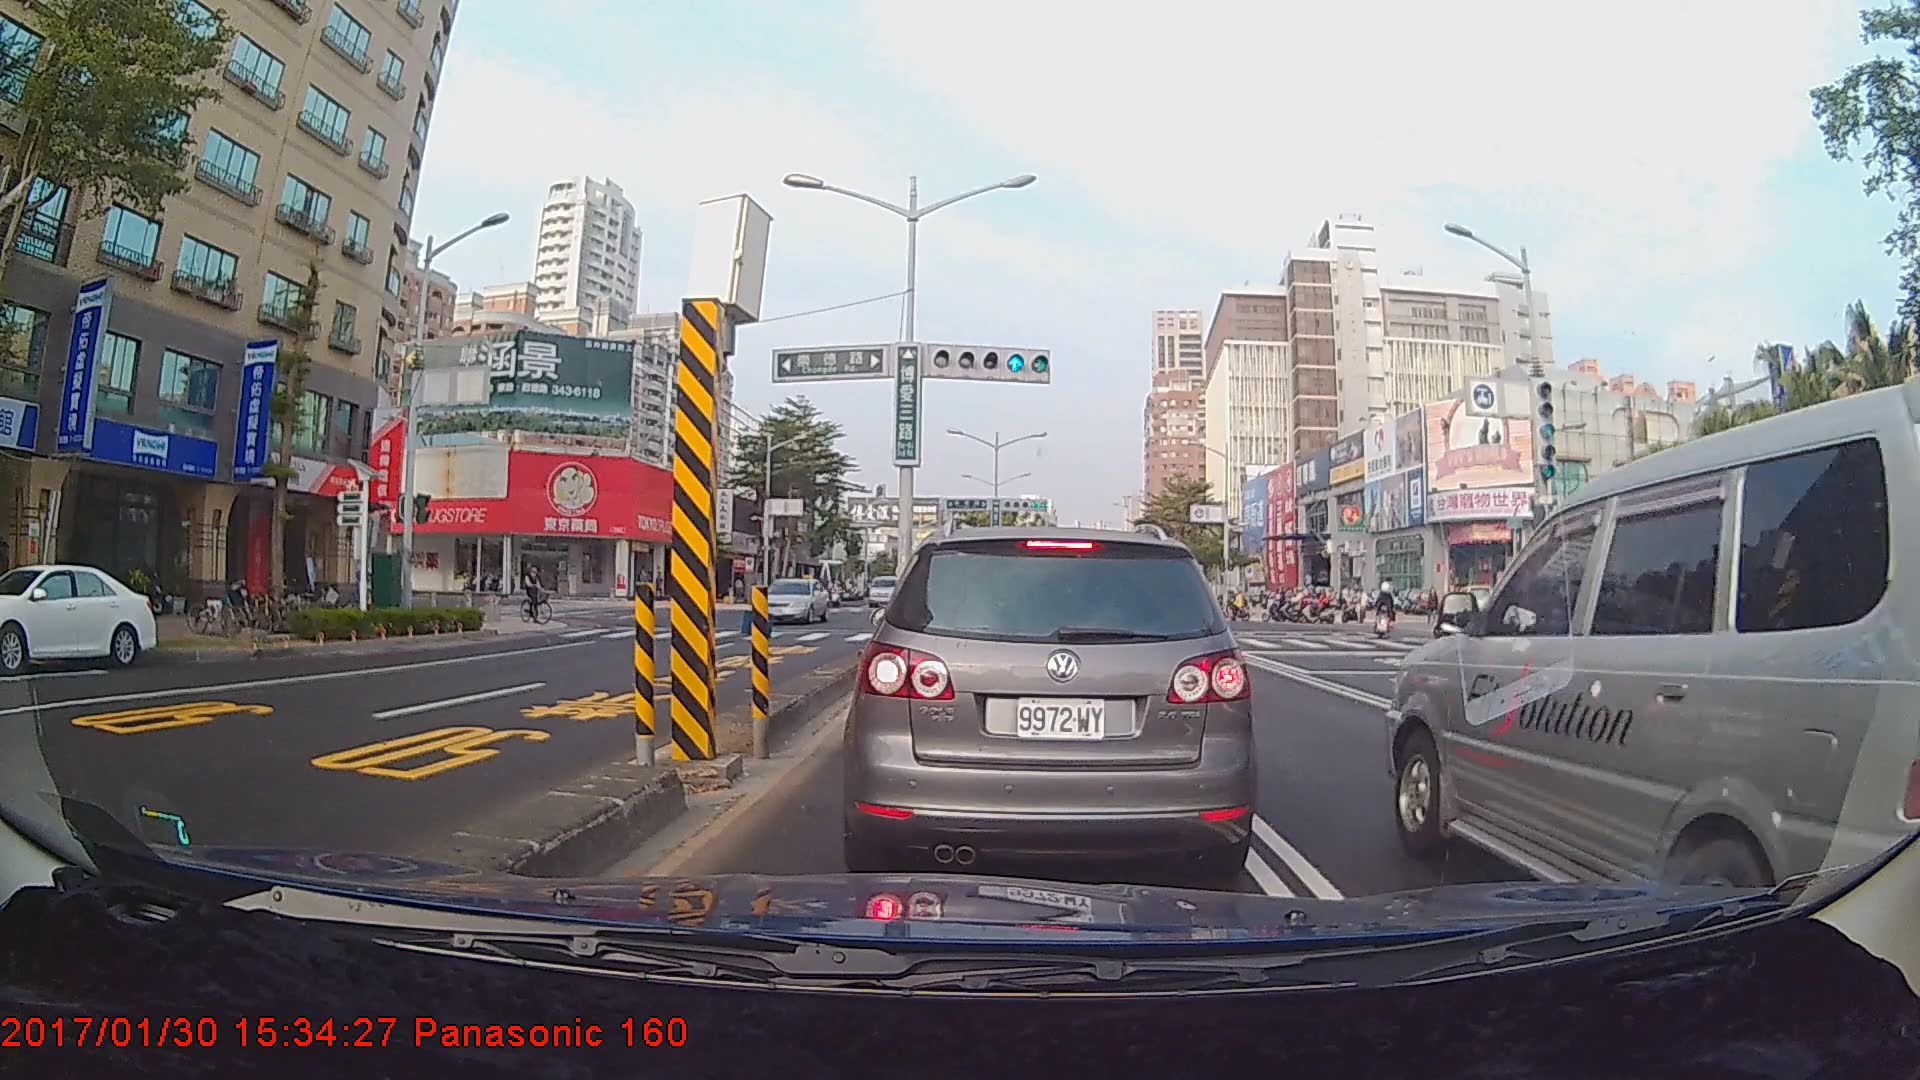rider: (518, 559, 561, 629), (1373, 584, 1398, 643)
vehicle: (1383, 368, 1920, 883), (854, 522, 1248, 881), (0, 561, 157, 671), (757, 577, 827, 624), (865, 574, 903, 606)
